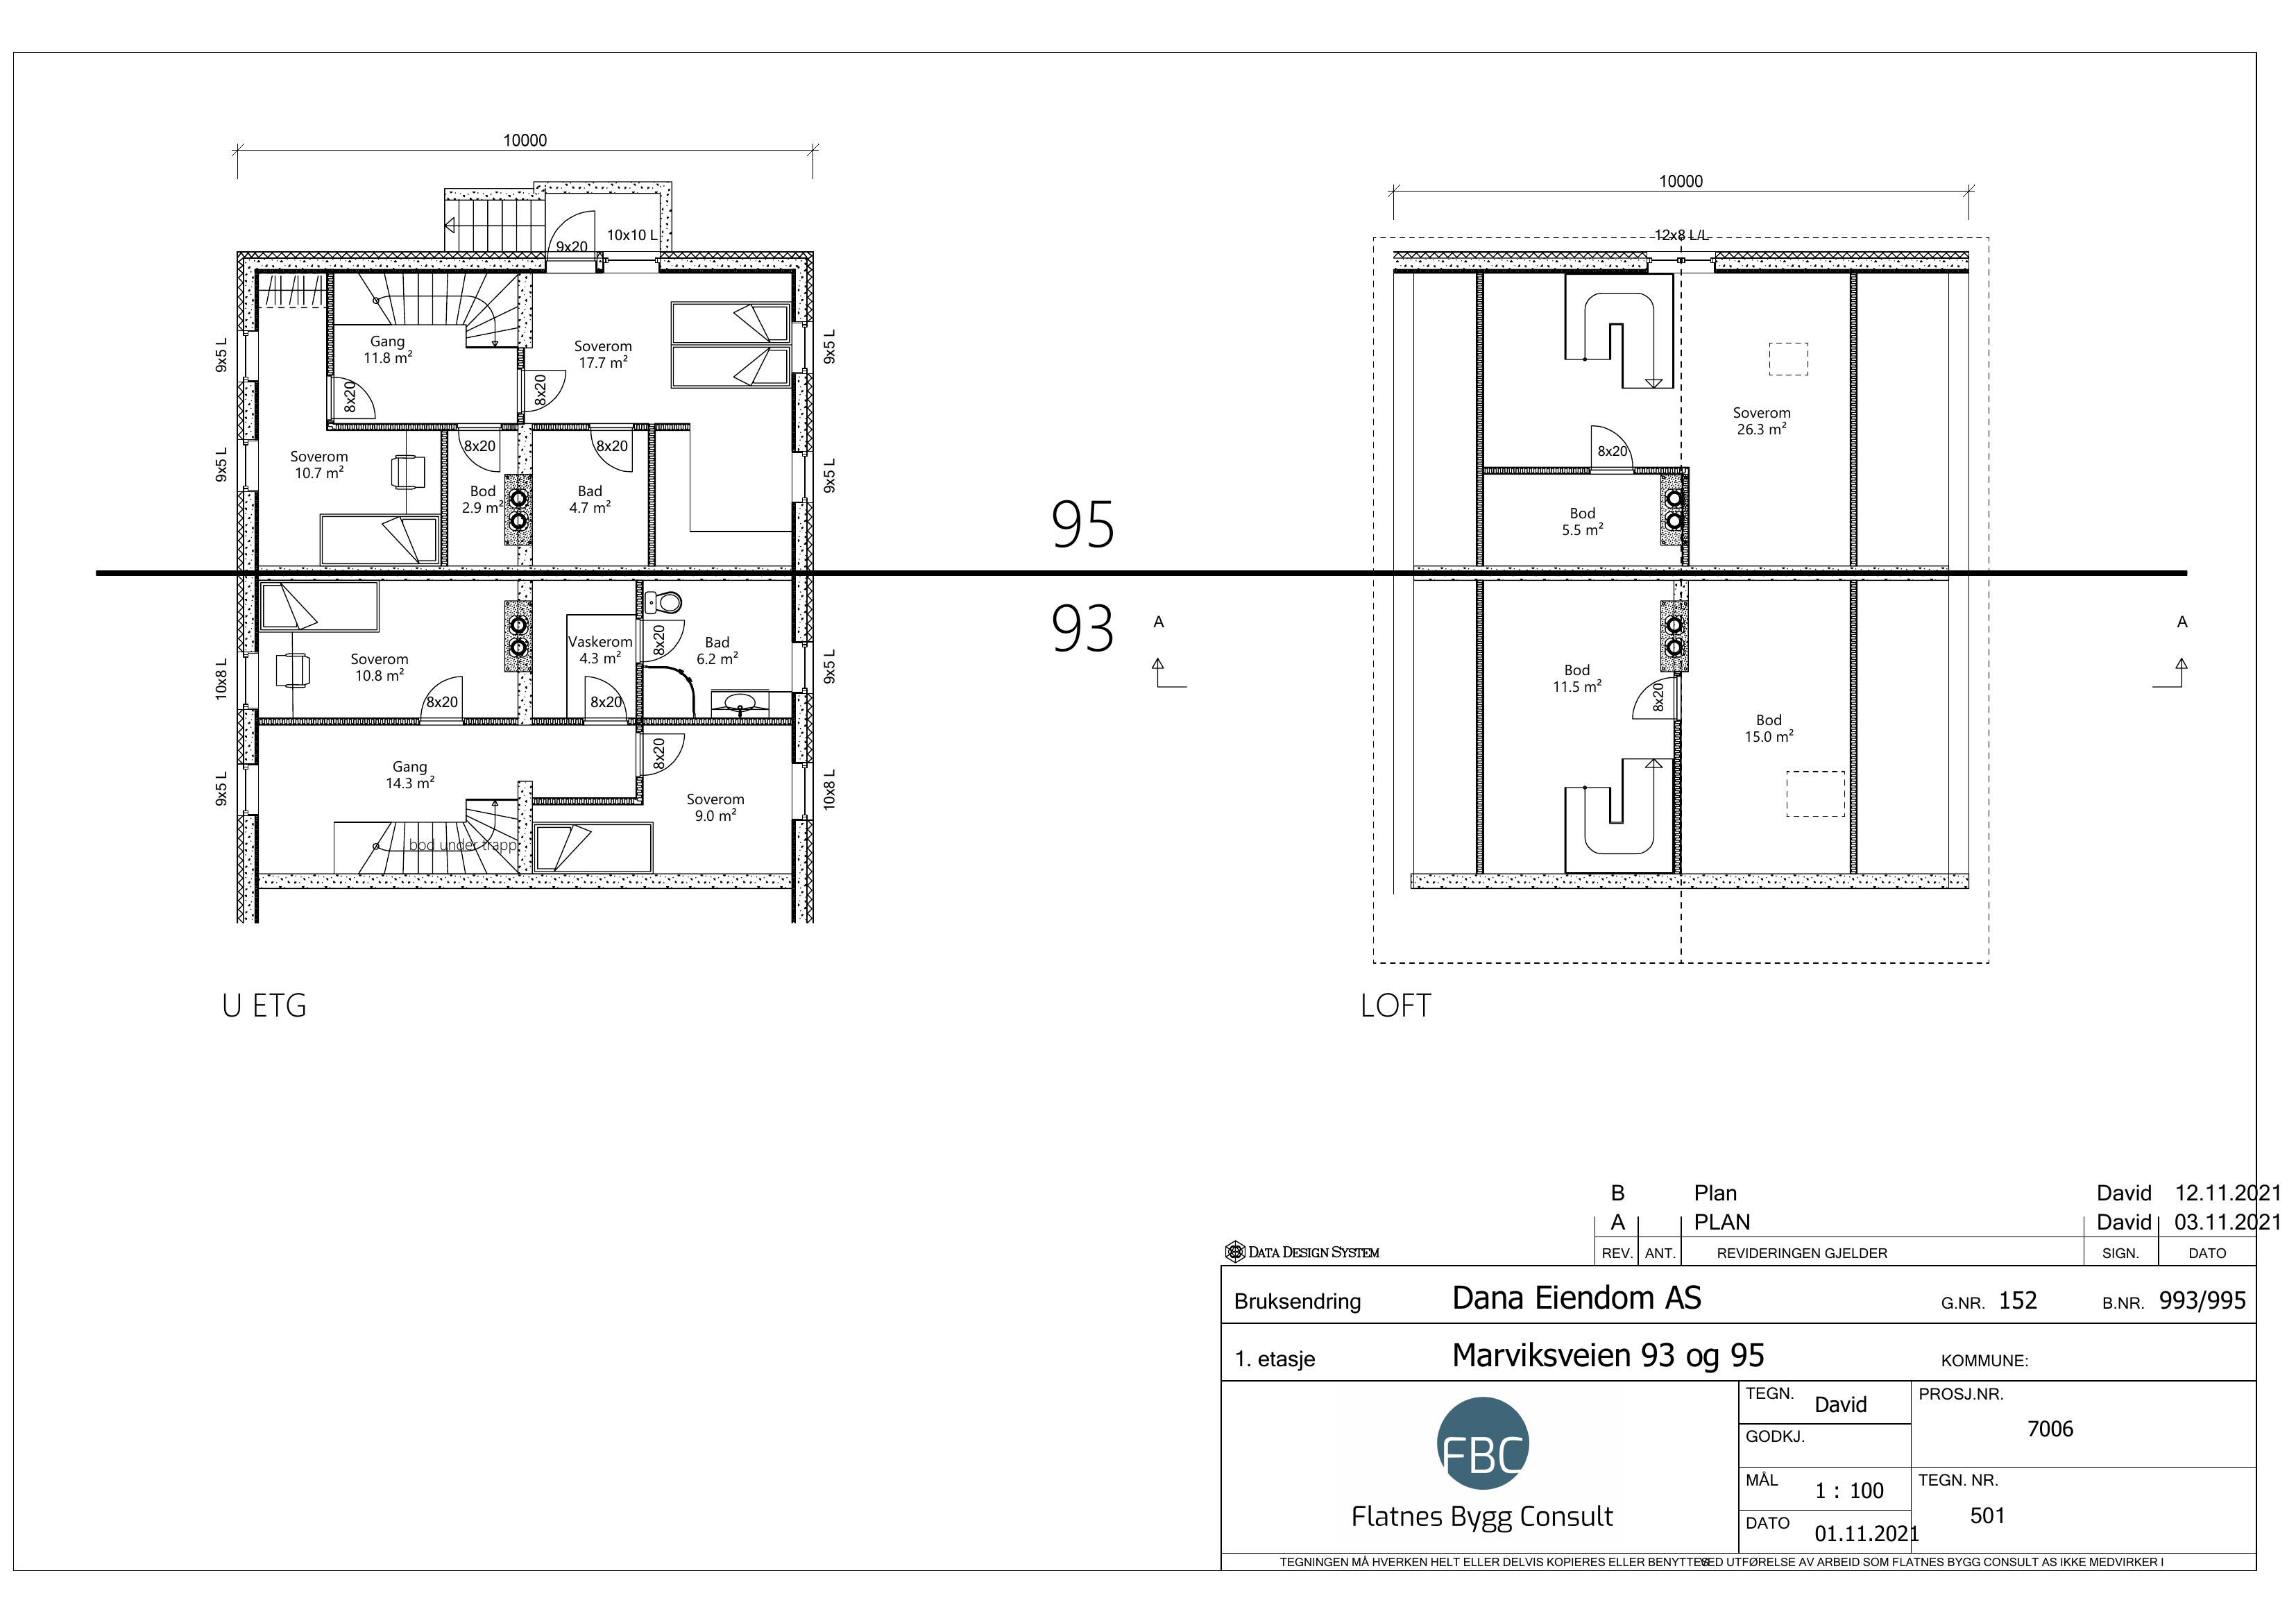plantegning: (235, 185, 825, 900), (1395, 248, 1966, 896)
